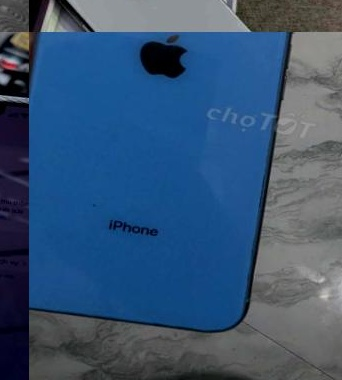scratch: (67, 188, 114, 225)
